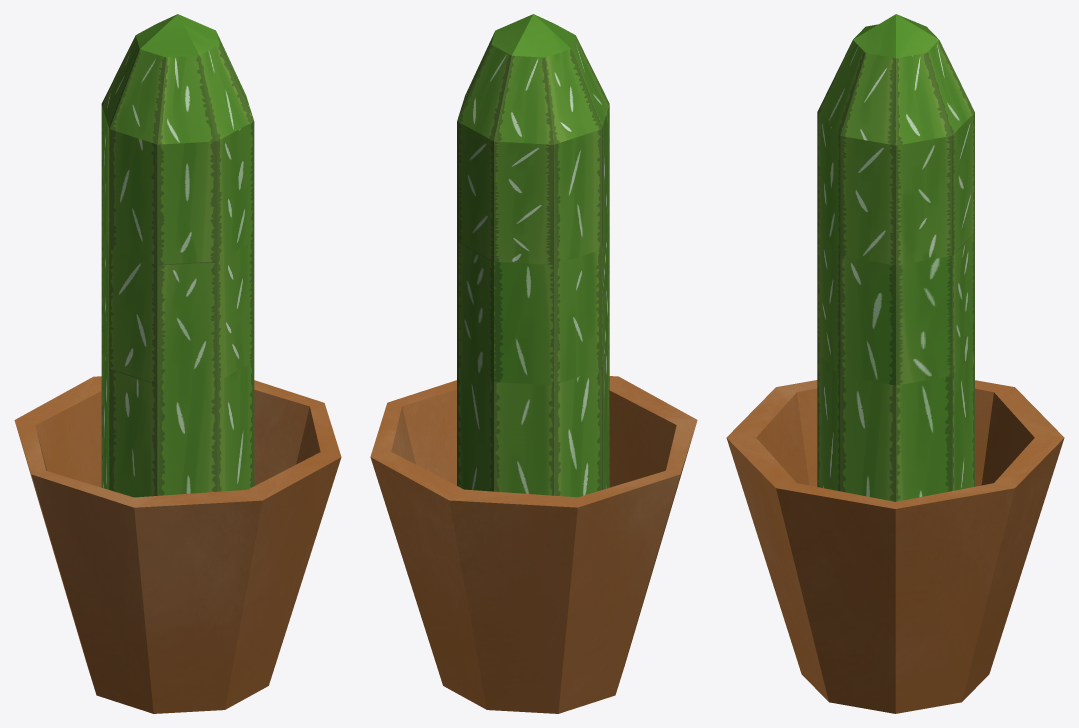
File: vaso.fbx
3 renders of one model, left to right at view 1: azimuth 30°, elevation 25°; view 2: azimuth 150°, elevation 25°; view 3: azimuth 270°, elevation 25°, orthographic.
Visible parts, largest first — view 1: vaso; view 2: vaso; view 3: vaso.
Part boxes in pixels (box(x1,y1,x2,y2)): vaso: box(14, 14, 341, 713); vaso: box(370, 14, 697, 713); vaso: box(726, 14, 1064, 713).
Bounding box in the file's own units: 180 × 388 × 180.
1 material, 1 textured.
